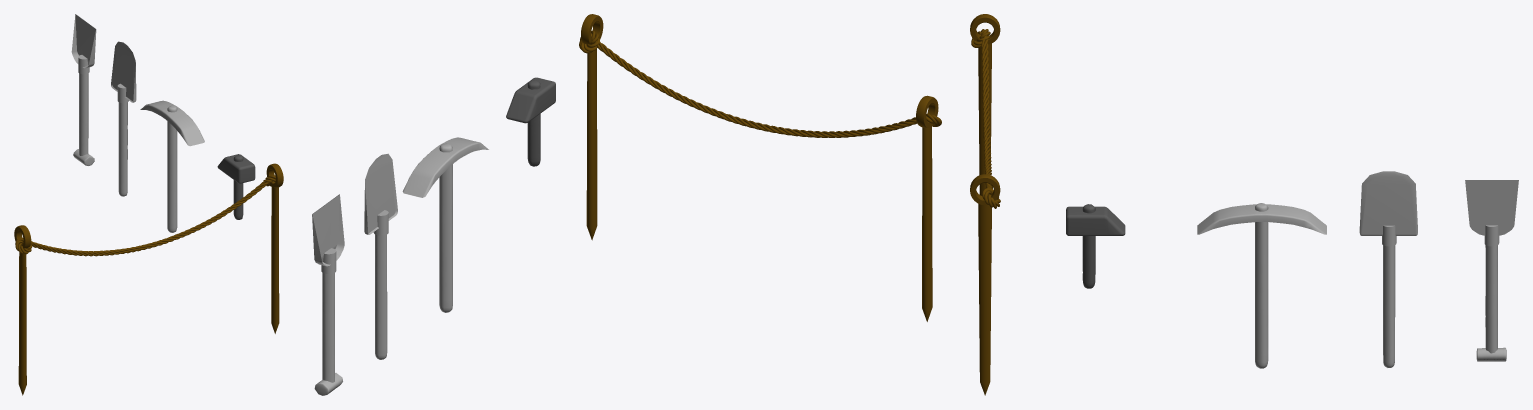
Rendered from Estacas.fbx.
The picture shows the model from 3 angles, left to right: view 1: azimuth 30°, elevation 25°; view 2: azimuth 150°, elevation 25°; view 3: azimuth 270°, elevation 25°; orthographic projection. The views are drawn at different scales.
Parts seen in each view (by area): view 1: polySurface9, pCube9, pCube15, pCube17, pCube6; view 2: polySurface9, pCube9, pCube15, pCube17, pCube6; view 3: polySurface9, pCube15, pCube17, pCube9, pCube6.
Part boxes in pixels (<box>): polySurface9: <box>14,163,283,395</box>; pCube9: <box>140,100,204,232</box>; pCube15: <box>111,41,136,196</box>; pCube17: <box>71,14,96,165</box>; pCube6: <box>217,154,255,219</box>; polySurface9: <box>579,14,941,321</box>; pCube9: <box>402,137,488,312</box>; pCube15: <box>364,153,397,359</box>; pCube17: <box>312,194,344,395</box>; pCube6: <box>506,77,555,166</box>; polySurface9: <box>970,14,1000,395</box>; pCube15: <box>1359,171,1417,367</box>; pCube17: <box>1465,180,1518,361</box>; pCube9: <box>1197,203,1326,368</box>; pCube6: <box>1066,204,1125,288</box>.
Size of the model in its own units: 10.54 by 6.47 by 14.11.
